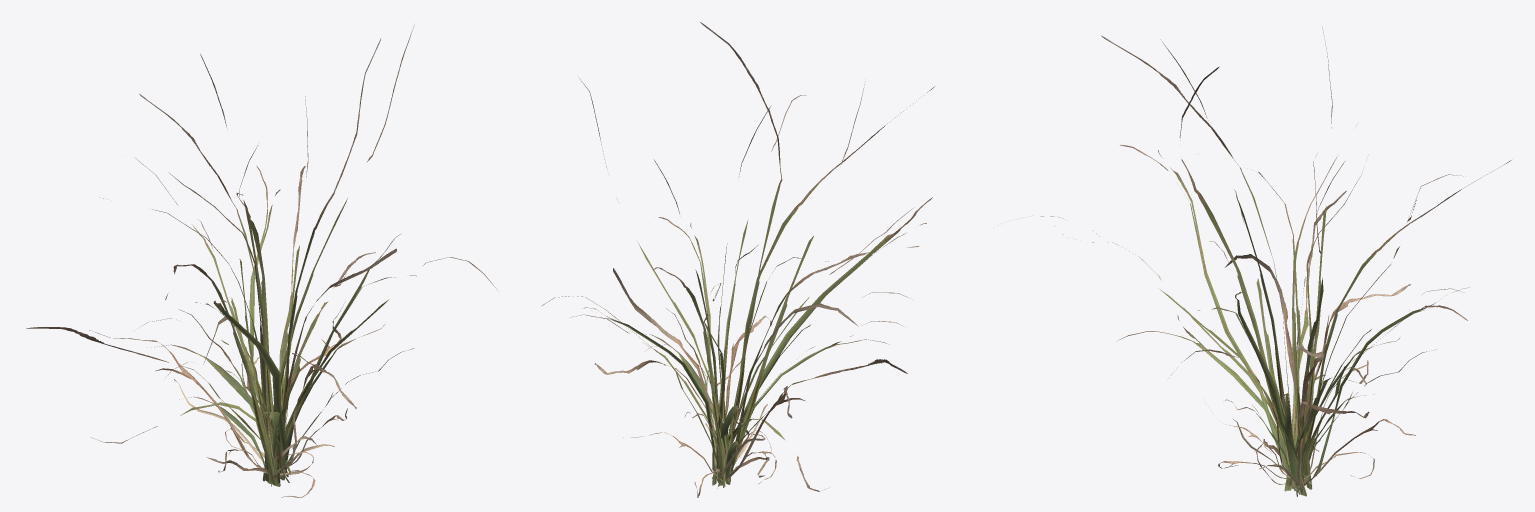
The picture shows the model from 3 angles, left to right: view 1: azimuth 30°, elevation 25°; view 2: azimuth 150°, elevation 25°; view 3: azimuth 270°, elevation 25°; orthographic projection. The views are drawn at different scales.
Visible parts, largest first — view 1: grass_medium_02__e_lod0; view 2: grass_medium_02__e_lod0; view 3: grass_medium_02__e_lod0.
Boxes of the visible parts, x1=… form: grass_medium_02__e_lod0: x1=26, y1=24, x2=497, y2=497; grass_medium_02__e_lod0: x1=542, y1=22, x2=934, y2=497; grass_medium_02__e_lod0: x1=1040, y1=26, x2=1511, y2=496.
Size of the model in its own units: 0.371 by 0.4301 by 0.4553.
1 material, 1 textured.
